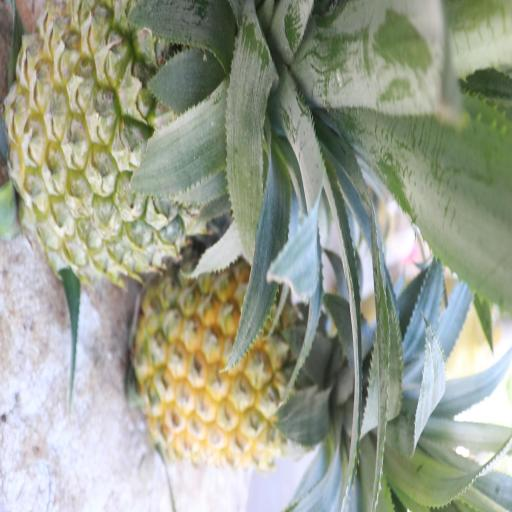------------------------------: (14, 0, 298, 267)
Pineapple - v8 v1: (144, 258, 379, 468)
